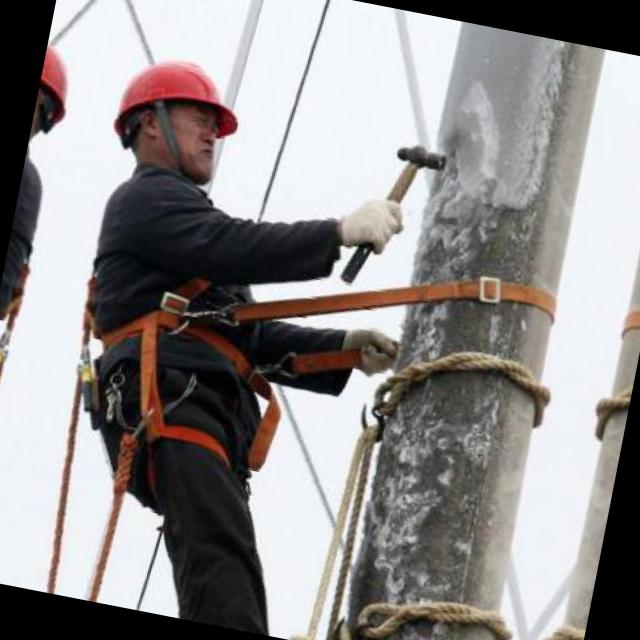helmet: (89, 31, 262, 198), (26, 18, 100, 168)
